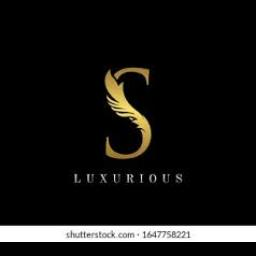s: (96, 54, 160, 168)
